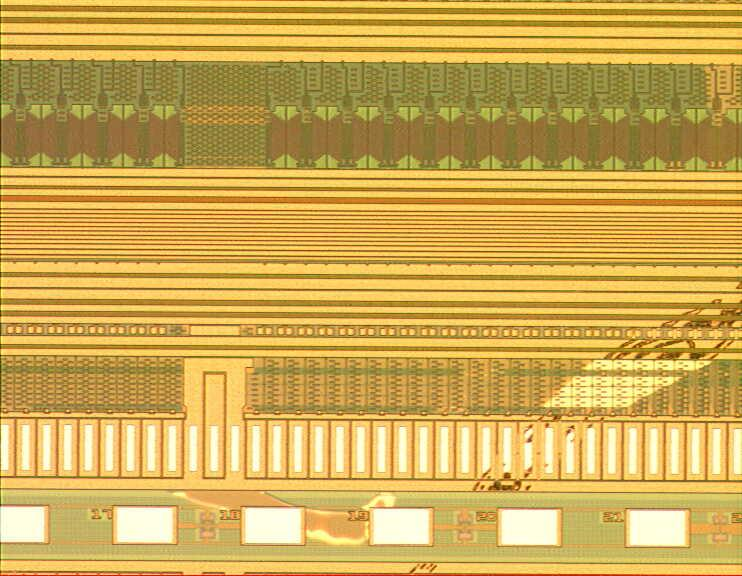COATING BAD: (163, 286, 742, 576)
